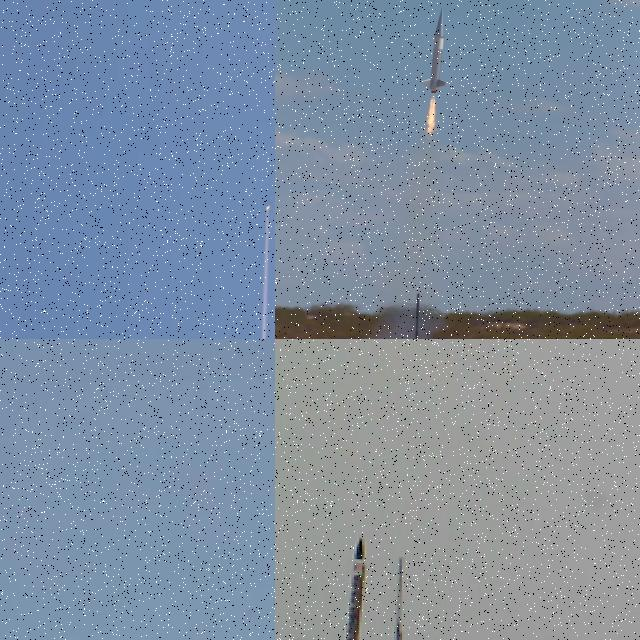Rocket: (326, 535, 368, 640), (422, 7, 448, 93), (266, 198, 270, 208)
